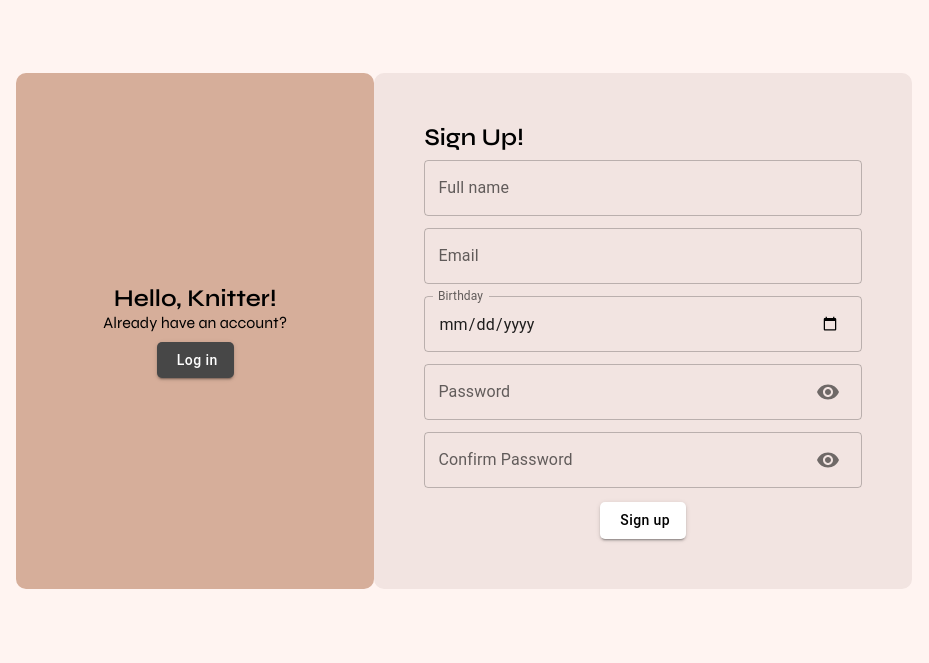
it: Signup Component › displays error messages for empty form submission
What coordinates should you click on to do the following:
click the button "Sign up"
I would click on:
 (643, 521)
Its box is [600,502,686,539].
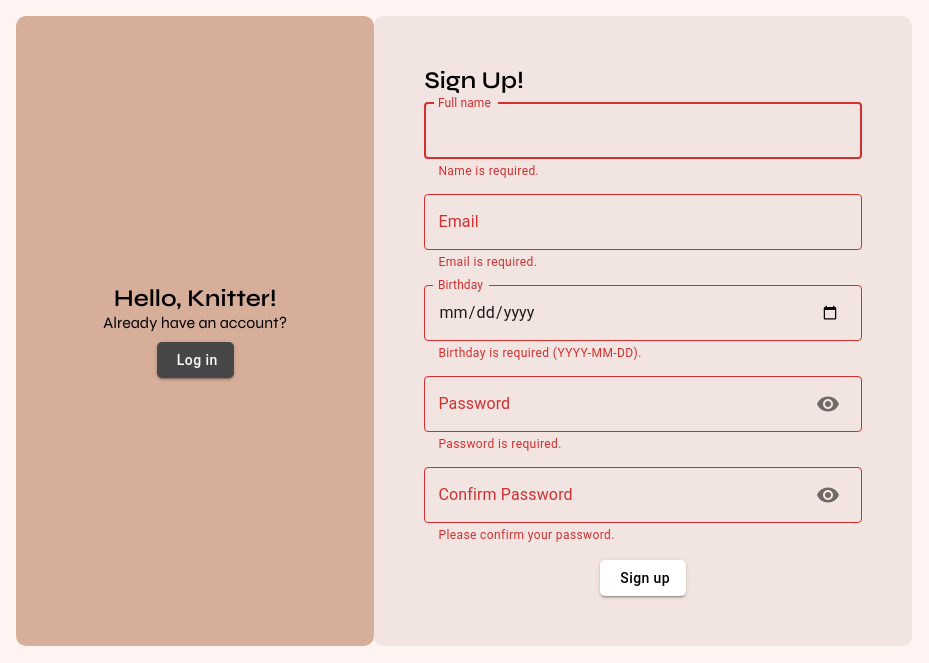
expect the text "Name is required." is shown 4 times: met, box [438,164,539,178]; [438,255,537,269]; [438,346,642,360]; [438,437,562,451]
